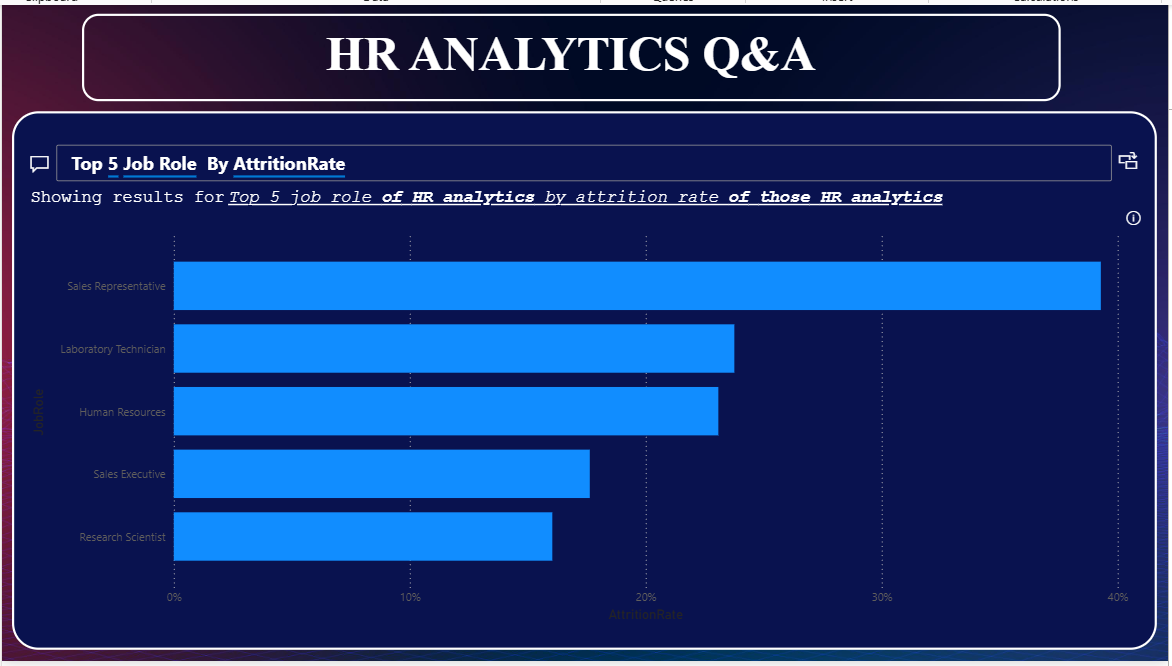

The dashboard page shown, as its layout file describes it:
{"tool":"powerbi","page":{"name":"HR ANALYTICS Q&A","canvas":[1280,720],"ordinal":2},"visuals":[{"type":"qnaVisual","box":[11,116.6,1257,591.4],"z":0},{"type":"textbox","box":[87.8,9.6,1074.4,96.1],"z":1000}]}

Visuals, with their boxes on the page's 1280x720 design canvas (x1, y1, x2, y2). These are canvas units, not pixel positions in the 1172x666 screenshot, which may show the page scaled, cropped or inside an application window:
qnaVisual: [11, 117, 1268, 708]
textbox: [88, 10, 1162, 106]
